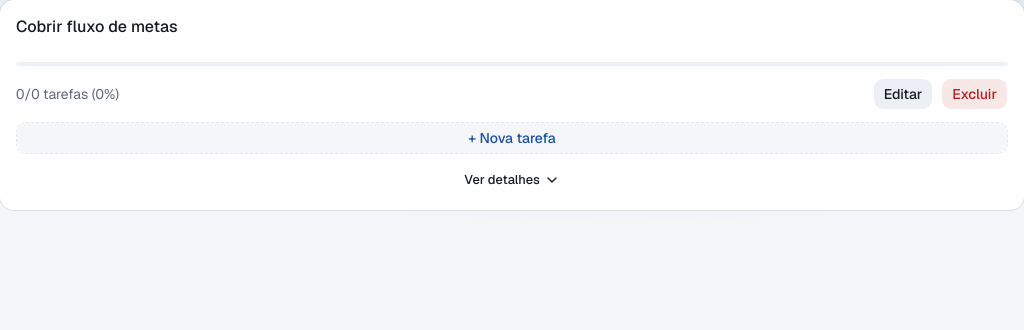
Test: WeeklyGoalCard › pre-checks today's toggle when the goal's week contains today
Click the button "+ Nova tarefa". click: click(512, 138)
box: [16,122,1008,154]
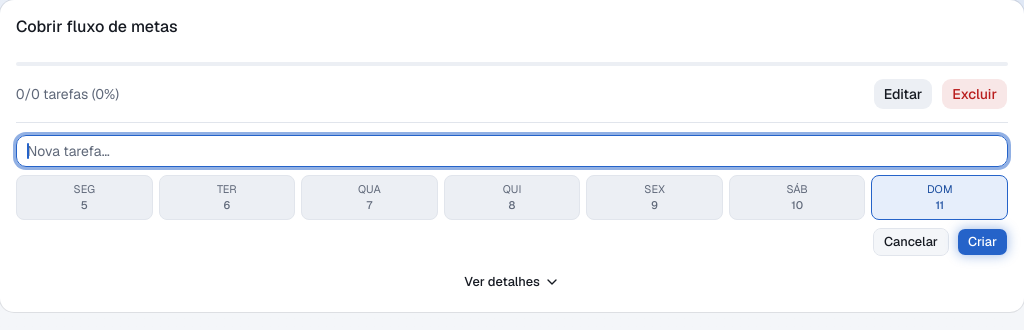
Check: the checkbox labelled "DOM 11" is checked, box [872,175,1008,220]
